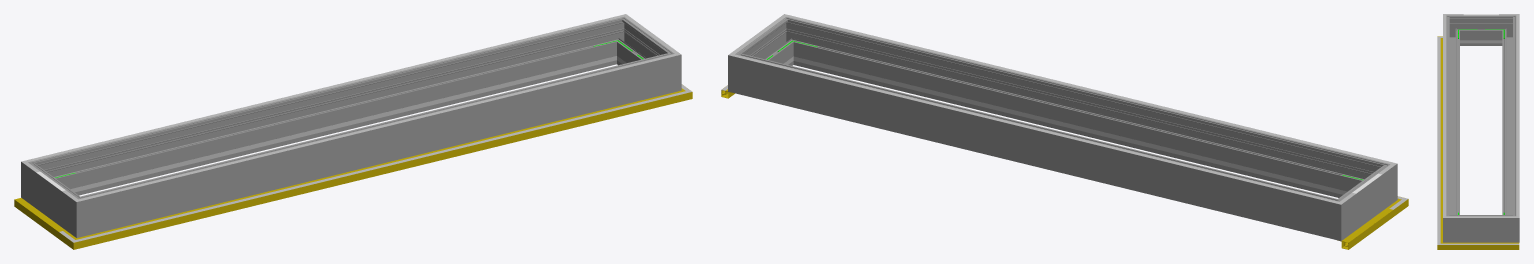
3 renders of one model, left to right at view 1: azimuth 30°, elevation 25°; view 2: azimuth 150°, elevation 25°; view 3: azimuth 270°, elevation 25°, orthographic. The views are drawn at different scales.
Parts seen in each view (by area): view 1: 3DGeom-276, 3DGeom-298, 3DGeom-11, 3DGeom-244, 3DGeom-20, 3DGeom-316, 3DGeom-304, 3DGeom-270, 3DGeom-290, 3DGeom-268, 3DGeom-284, 3DGeom-297 (+3 smaller); view 2: 3DGeom-298, 3DGeom-276, 3DGeom-239, 3DGeom-304, 3DGeom-316, 3DGeom-278, 3DGeom-284, 3DGeom-268, 3DGeom-290, 3DGeom-297, 3DGeom-270, 3DGeom-6; view 3: 3DGeom-276, 3DGeom-298, 3DGeom-268, 3DGeom-297, 3DGeom-20, 3DGeom-304, 3DGeom-316, 3DGeom-290, 3DGeom-284, 3DGeom-11, 3DGeom-16, 3DGeom-270 (+12 smaller).
Part boxes in pixels (x1=…): 3DGeom-276: x1=49, y1=22, x2=612, y2=195; 3DGeom-298: x1=97, y1=57, x2=655, y2=231; 3DGeom-11: x1=96, y1=95, x2=666, y2=243; 3DGeom-244: x1=80, y1=62, x2=591, y2=190; 3DGeom-20: x1=97, y1=96, x2=666, y2=236; 3DGeom-316: x1=100, y1=59, x2=655, y2=195; 3DGeom-304: x1=47, y1=20, x2=601, y2=156; 3DGeom-270: x1=61, y1=189, x2=102, y2=237; 3DGeom-290: x1=651, y1=45, x2=681, y2=96; 3DGeom-268: x1=36, y1=170, x2=69, y2=226; 3DGeom-284: x1=602, y1=17, x2=636, y2=65; 3DGeom-297: x1=619, y1=26, x2=662, y2=64; 3DGeom-298: x1=798, y1=22, x2=1368, y2=197; 3DGeom-276: x1=754, y1=58, x2=1319, y2=234; 3DGeom-239: x1=818, y1=62, x2=1337, y2=193; 3DGeom-304: x1=754, y1=60, x2=1316, y2=198; 3DGeom-316: x1=808, y1=20, x2=1370, y2=158; 3DGeom-278: x1=1315, y1=191, x2=1356, y2=240; 3DGeom-284: x1=728, y1=45, x2=758, y2=97; 3DGeom-268: x1=1348, y1=172, x2=1382, y2=229; 3DGeom-290: x1=773, y1=17, x2=807, y2=65; 3DGeom-297: x1=747, y1=26, x2=790, y2=65; 3DGeom-270: x1=1358, y1=159, x2=1397, y2=210; 3DGeom-6: x1=1337, y1=208, x2=1393, y2=249; 3DGeom-276: x1=1502, y1=22, x2=1516, y2=214; 3DGeom-298: x1=1446, y1=22, x2=1459, y2=214; 3DGeom-268: x1=1463, y1=15, x2=1498, y2=45; 3DGeom-297: x1=1463, y1=215, x2=1498, y2=242; 3DGeom-20: x1=1437, y1=45, x2=1440, y2=236; 3DGeom-304: x1=1516, y1=22, x2=1519, y2=208; 3DGeom-316: x1=1443, y1=22, x2=1446, y2=208; 3DGeom-290: x1=1443, y1=209, x2=1463, y2=242; 3DGeom-284: x1=1499, y1=209, x2=1519, y2=242; 3DGeom-11: x1=1440, y1=45, x2=1442, y2=236; 3DGeom-16: x1=1458, y1=242, x2=1519, y2=249; 3DGeom-270: x1=1446, y1=15, x2=1463, y2=45.
Bounding box in the file's own units: 3.66 × 0.2434 × 0.6096.
